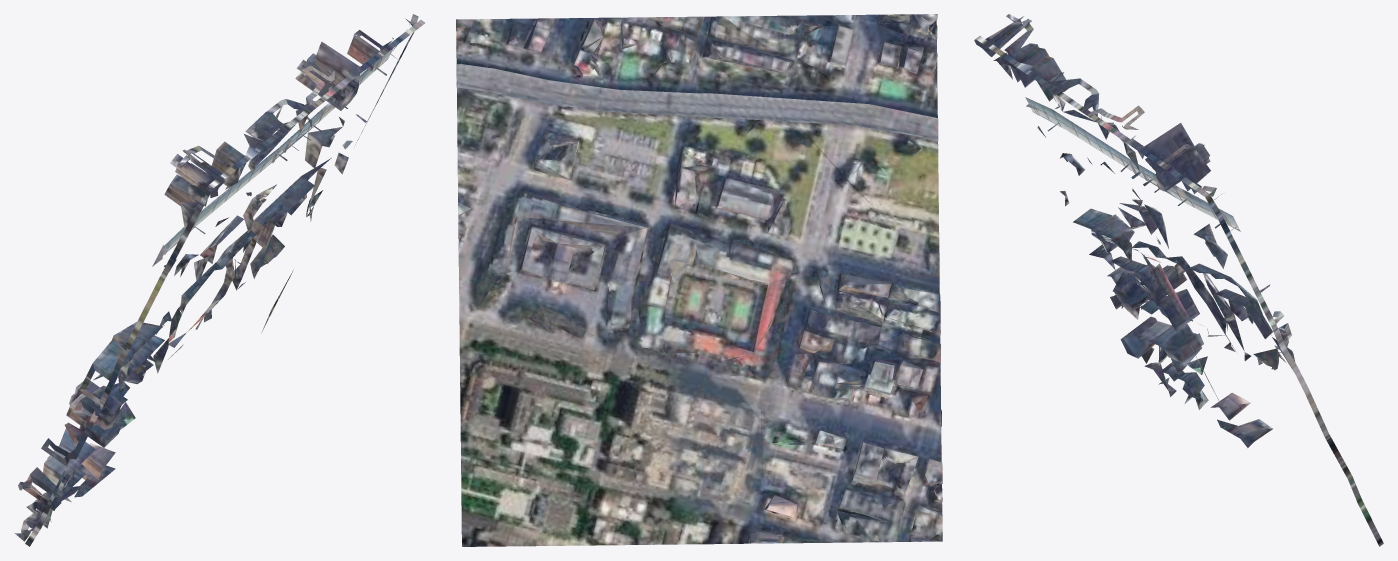
3 views of the same model, side by side, from view 1: azimuth 30°, elevation 25°; view 2: azimuth 150°, elevation 25°; view 3: azimuth 270°, elevation 25° (orthographic). The views are drawn at different scales.
Size of the model in its own units: 617 by 579 by 522.
2 materials, 2 textured.
